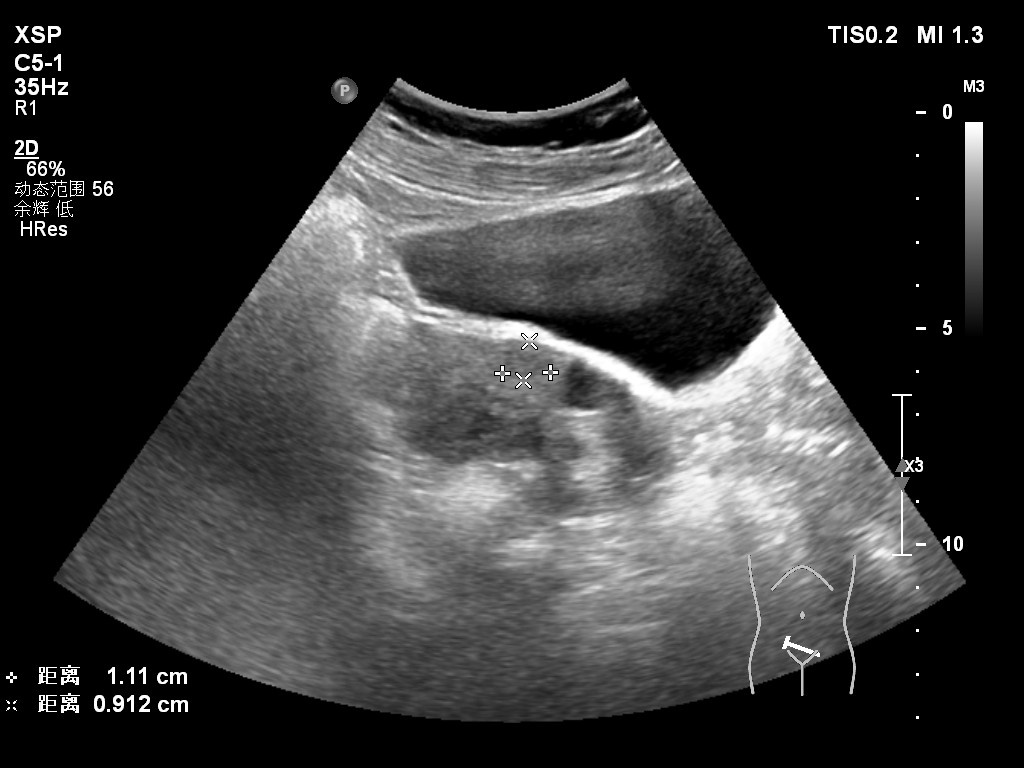肌瘤: (508, 339, 554, 375)
